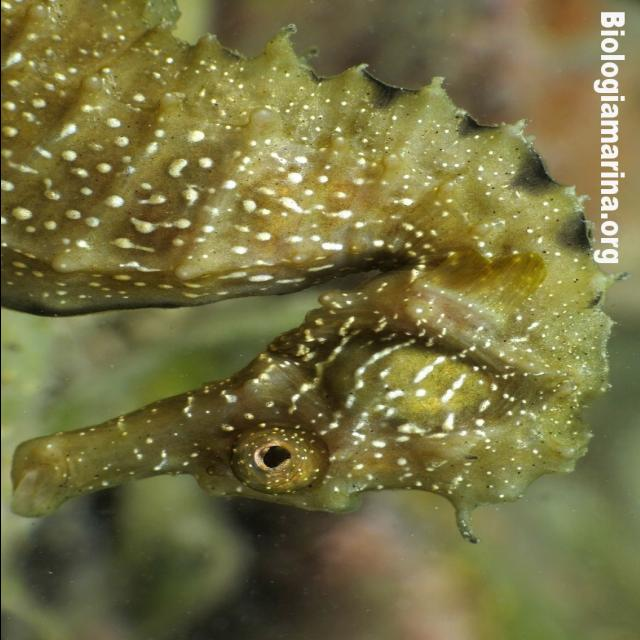Guttu: (0, 268, 619, 542)
